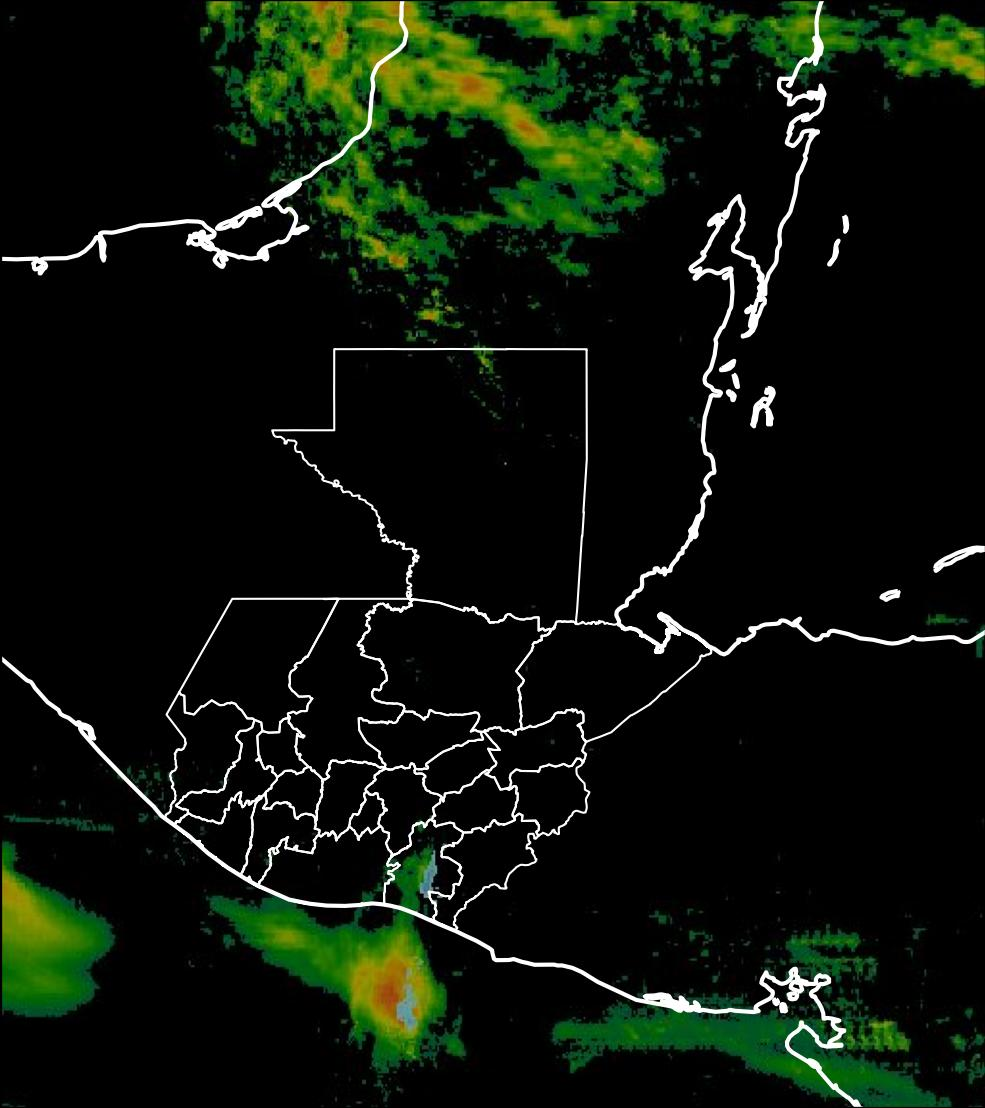precipitacion: (441, 64, 573, 166), (357, 952, 399, 1034)
